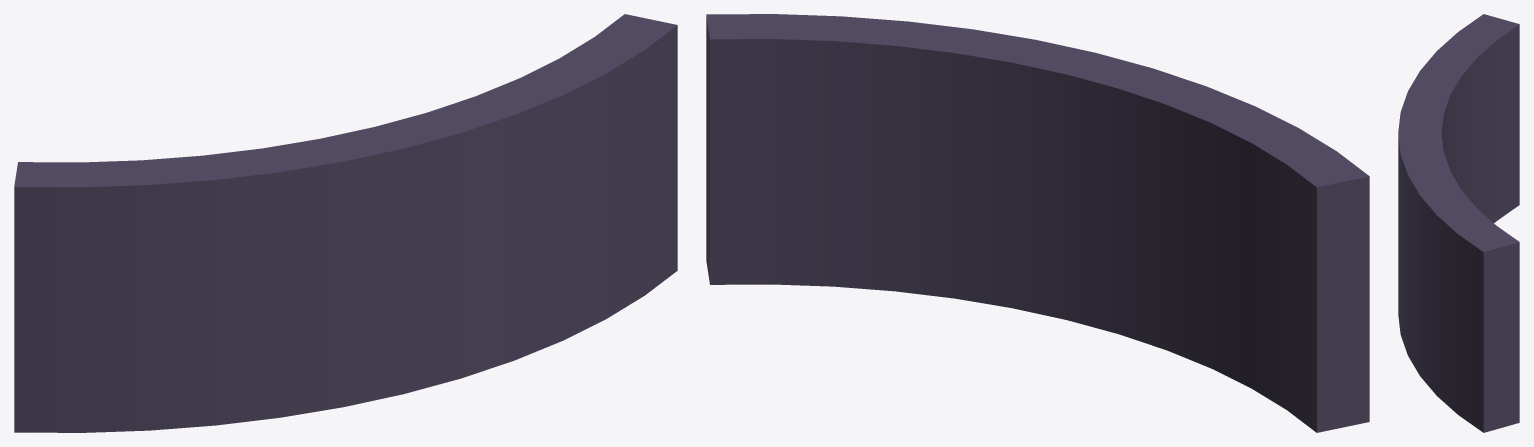
Rendered from Outer_03.fbx.
The picture shows the model from 3 angles, left to right: view 1: azimuth 30°, elevation 25°; view 2: azimuth 150°, elevation 25°; view 3: azimuth 270°, elevation 25°; orthographic projection. The views are drawn at different scales.
Parts seen in each view (by area): view 1: Outer_03; view 2: Outer_03; view 3: Outer_03.
Boxes of the visible parts, x1,y1,x2,y2 form: Outer_03: (14,14,677,432); Outer_03: (706,14,1369,432); Outer_03: (1398,14,1519,432).
Bounding box in the file's own units: 98.21 × 34.73 × 21.19.
